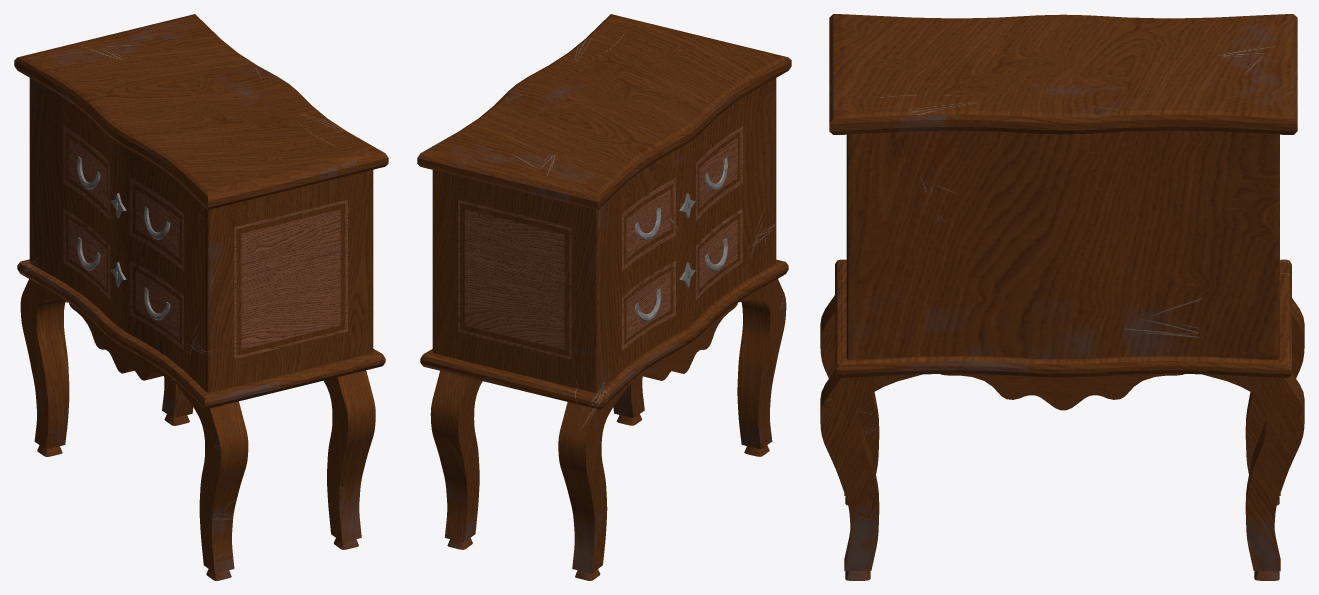
Rendered from Pedestal.fbx.
3 views of the same model, side by side, from view 1: azimuth 30°, elevation 25°; view 2: azimuth 150°, elevation 25°; view 3: azimuth 270°, elevation 25° (orthographic). The views are drawn at different scales.
Visible parts, largest first — view 1: Cube.001, Cube, Cube.003, Cube.002, Torus.003; view 2: Cube.001, Cube, Cube.003, Cube.002, Torus.003; view 3: Cube.001, Cube.003, Cube.002.
Part boxes in pixels (x1,y1,x2,y2): Cube.001: [14, 14, 388, 408]; Cube: [63, 125, 347, 359]; Cube.003: [20, 279, 375, 580]; Cube.002: [69, 303, 172, 380]; Torus.003: [77, 156, 170, 320]; Cube.001: [417, 14, 791, 409]; Cube: [458, 125, 742, 359]; Cube.003: [430, 279, 786, 580]; Cube.002: [634, 303, 737, 380]; Torus.003: [635, 157, 727, 321]; Cube.001: [829, 14, 1297, 377]; Cube.003: [820, 295, 1304, 580]; Cube.002: [940, 373, 1184, 410].
Bounding box in the file's own units: 62.21 × 129 × 119.
